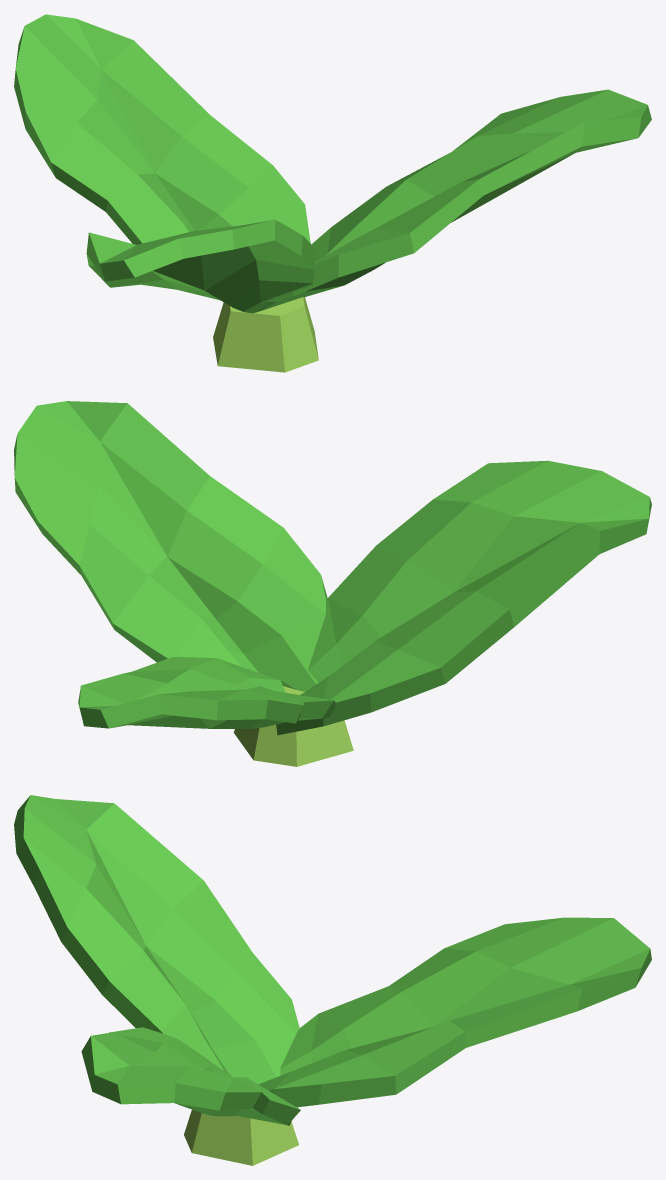
File: Broccoli_S.fbx
3 views of the same model, one above another, from view 1: azimuth 30°, elevation 25°; view 2: azimuth 150°, elevation 25°; view 3: azimuth 270°, elevation 25° (orthographic).
Visible parts, largest first — view 1: Broccoli_S; view 2: Broccoli_S; view 3: Broccoli_S.
Boxes of the visible parts, x1=… form: Broccoli_S: x1=14, y1=14, x2=651, y2=372; Broccoli_S: x1=14, y1=401, x2=651, y2=766; Broccoli_S: x1=14, y1=795, x2=651, y2=1165.
Size of the model in its own units: 25.84 by 10.05 by 24.65.
